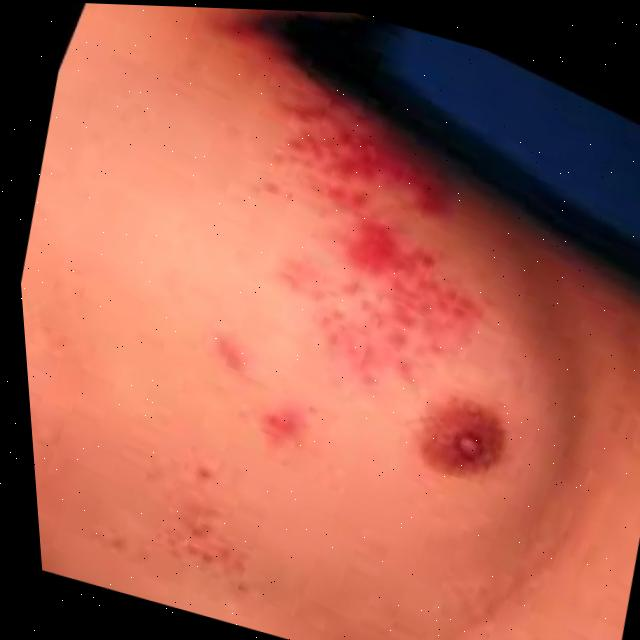Eczema: (222, 107, 526, 401)
